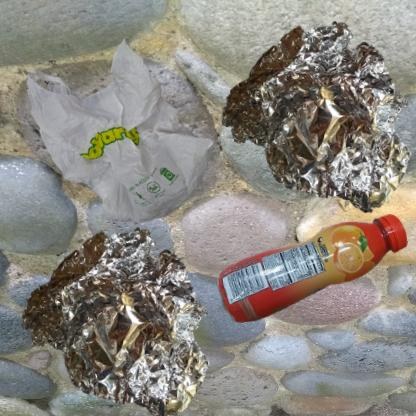aluminio: (10, 213, 229, 416), (213, 10, 416, 219)
bolsa: (10, 10, 269, 293)
botella: (213, 213, 416, 328)
